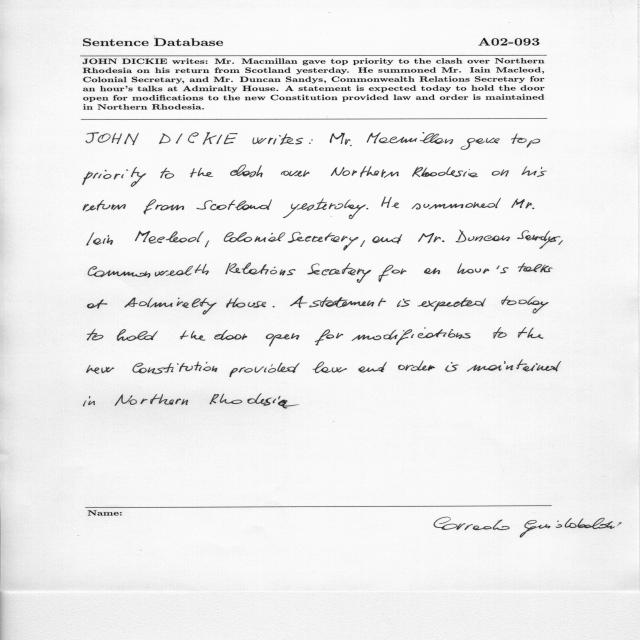word: (352, 327, 471, 345), (283, 198, 366, 219), (88, 264, 209, 278), (125, 298, 217, 315), (210, 394, 299, 409), (82, 167, 146, 187), (307, 263, 371, 283), (288, 232, 358, 250), (467, 360, 561, 372), (367, 132, 453, 144), (159, 132, 238, 145), (133, 362, 218, 374), (230, 363, 300, 377), (412, 198, 501, 209), (417, 298, 486, 312), (226, 263, 296, 276), (135, 231, 204, 244), (115, 394, 188, 406), (196, 200, 272, 211), (517, 230, 560, 249), (331, 166, 399, 178), (502, 296, 549, 313), (309, 297, 386, 307), (412, 167, 478, 178), (86, 132, 139, 145), (456, 230, 510, 242), (224, 232, 285, 242), (144, 200, 184, 215), (457, 263, 509, 274), (253, 134, 303, 145), (117, 329, 158, 341), (379, 265, 407, 282), (83, 200, 126, 211), (461, 138, 500, 150), (315, 330, 343, 346), (511, 133, 540, 148), (266, 334, 299, 347), (398, 360, 435, 371), (226, 298, 266, 308), (230, 165, 263, 177), (313, 362, 348, 373), (87, 233, 113, 246), (214, 330, 247, 340), (358, 362, 387, 373), (518, 263, 553, 272), (373, 234, 403, 244), (518, 327, 543, 339), (330, 133, 352, 146), (522, 166, 547, 177), (418, 233, 445, 243), (87, 365, 115, 374), (180, 331, 205, 341), (190, 168, 213, 178), (512, 199, 535, 209), (290, 296, 307, 308), (88, 299, 108, 309), (381, 197, 399, 208), (281, 170, 309, 177), (87, 329, 104, 340), (161, 168, 175, 179), (493, 328, 507, 339), (445, 362, 459, 372), (492, 169, 509, 177), (83, 396, 95, 406), (397, 299, 410, 307), (424, 268, 440, 274), (360, 240, 365, 247), (205, 240, 209, 247), (558, 240, 563, 245), (309, 139, 313, 144), (278, 396, 281, 399), (272, 306, 275, 307), (366, 208, 368, 209)
